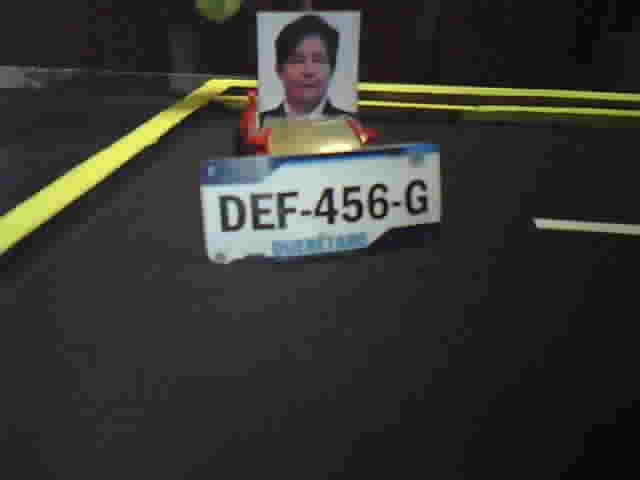PLACA: (194, 137, 444, 268)
ROSTRO: (257, 13, 357, 122)
